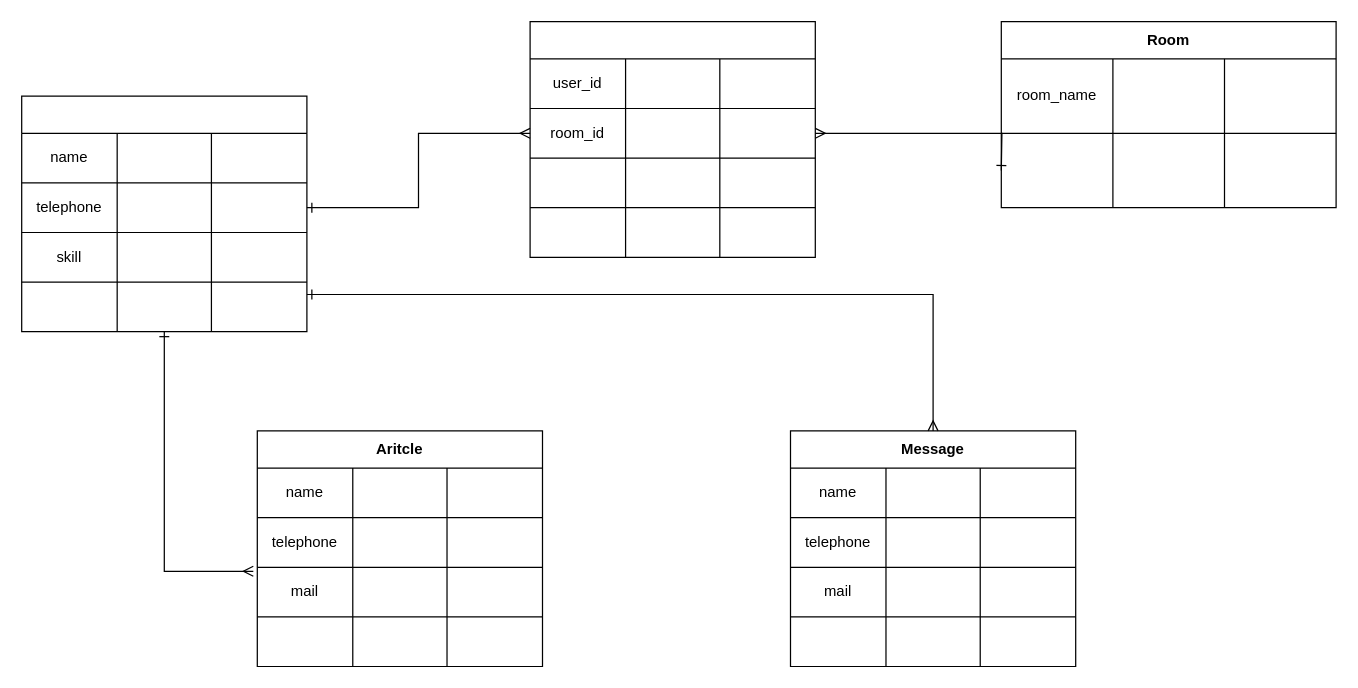
This 1358x688 diagram has some shape labels left out. Here are the shapes that lost their labels. From the top down, the box of each, then its label:
(529, 20, 815, 257): User_room
(20, 95, 307, 332): User
